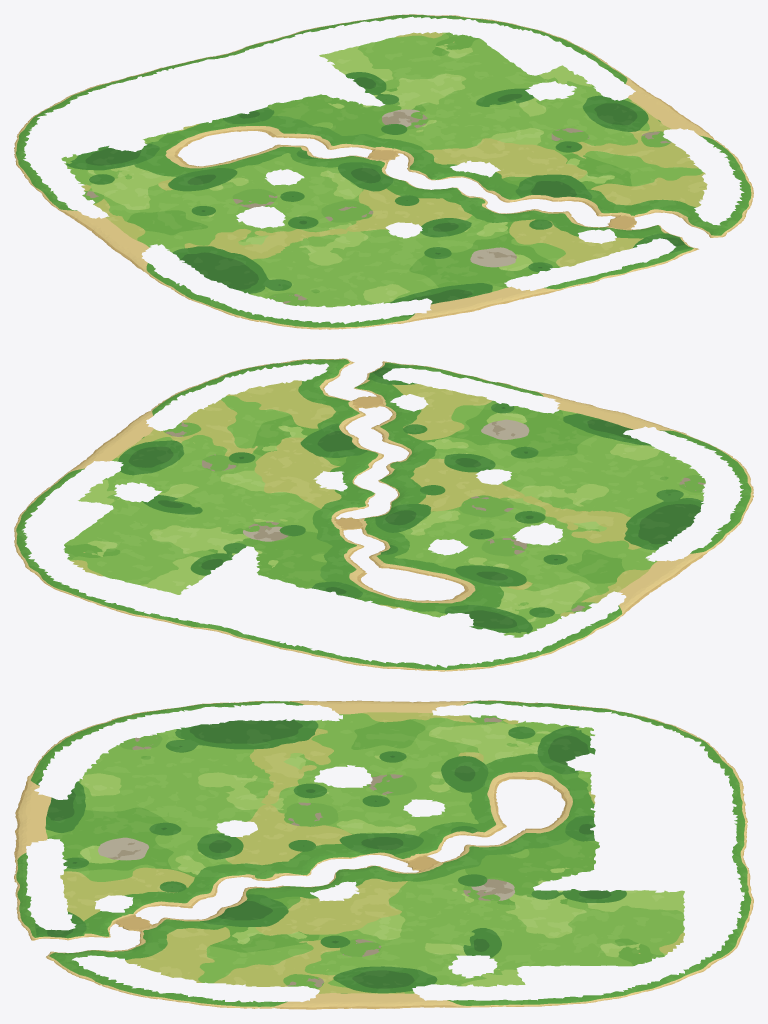
Rendered from Map-3-Ground.fbx.
The picture shows the model from 3 angles, top to bottom: view 1: azimuth 30°, elevation 25°; view 2: azimuth 150°, elevation 25°; view 3: azimuth 270°, elevation 25°; orthographic projection. The views are drawn at different scales.
Parts seen in each view (by area): view 1: Map-3-Ground-c22, Map-3-Ground-c11, Map-3-Ground-c21, Map-3-Ground-c12, Map-3-Ground-c10, Map-3-Ground-c31, Map-3-Ground-c02, Map-3-Ground-c01, Map-3-Ground-c20, Map-3-Ground-c32, Map-3-Ground-c23, Map-3-Ground-c00 (+4 smaller); view 2: Map-3-Ground-c22, Map-3-Ground-c11, Map-3-Ground-c21, Map-3-Ground-c12, Map-3-Ground-c10, Map-3-Ground-c31, Map-3-Ground-c02, Map-3-Ground-c01, Map-3-Ground-c20, Map-3-Ground-c32, Map-3-Ground-c23, Map-3-Ground-c00 (+4 smaller); view 3: Map-3-Ground-c22, Map-3-Ground-c11, Map-3-Ground-c21, Map-3-Ground-c12, Map-3-Ground-c10, Map-3-Ground-c31, Map-3-Ground-c02, Map-3-Ground-c01, Map-3-Ground-c20, Map-3-Ground-c32, Map-3-Ground-c23, Map-3-Ground-c33 (+4 smaller).
Boxes of the visible parts, x1,y1,x2,y2 form: Map-3-Ground-c22: (294,66,540,171); Map-3-Ground-c11: (226,171,473,275); Map-3-Ground-c21: (383,133,630,237); Map-3-Ground-c12: (143,104,382,208); Map-3-Ground-c10: (317,237,548,325); Map-3-Ground-c31: (540,103,745,198); Map-3-Ground-c02: (22,148,225,240); Map-3-Ground-c01: (103,209,316,304); Map-3-Ground-c20: (474,199,697,293); Map-3-Ground-c32: (450,39,665,132); Map-3-Ground-c23: (223,17,449,104); Map-3-Ground-c00: (205,275,381,329); Map-3-Ground-c22: (136,475,383,579); Map-3-Ground-c11: (384,447,630,551); Map-3-Ground-c21: (228,409,474,514); Map-3-Ground-c12: (293,514,539,615); Map-3-Ground-c10: (475,394,696,485); Map-3-Ground-c31: (101,382,317,475); Map-3-Ground-c02: (458,552,663,647); Map-3-Ground-c01: (540,486,744,583); Map-3-Ground-c20: (318,361,547,446); Map-3-Ground-c32: (20,446,226,541); Map-3-Ground-c23: (67,542,291,632); Map-3-Ground-c00: (631,439,753,514); Map-3-Ground-c22: (383,852,587,938); Map-3-Ground-c11: (180,766,384,854); Map-3-Ground-c21: (180,852,384,938); Map-3-Ground-c12: (383,766,587,854); Map-3-Ground-c10: (14,766,181,854); Map-3-Ground-c31: (180,938,384,1009); Map-3-Ground-c02: (383,700,587,767); Map-3-Ground-c01: (180,700,384,767); Map-3-Ground-c20: (14,852,181,940); Map-3-Ground-c32: (383,938,587,1008); Map-3-Ground-c23: (585,852,753,939); Map-3-Ground-c33: (585,938,740,1003).
Bounding box in the file's own units: 180 × 0.4891 × 182.
